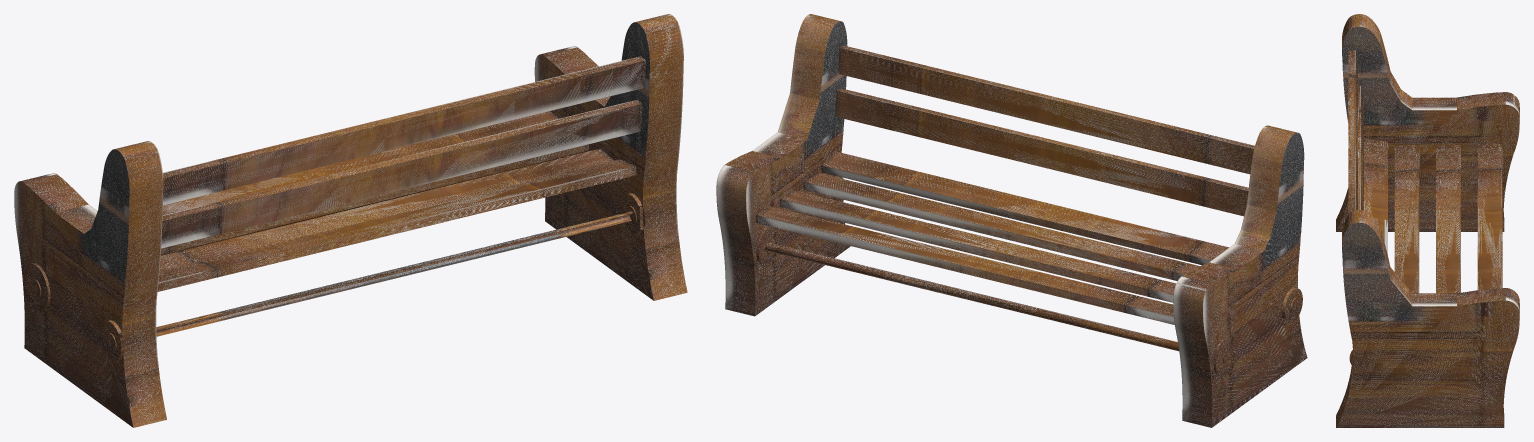
The picture shows the model from 3 angles, left to right: view 1: azimuth 30°, elevation 25°; view 2: azimuth 150°, elevation 25°; view 3: azimuth 270°, elevation 25°; orthographic projection. The views are drawn at different scales.
Visible parts, largest first — view 1: mesh1_mesh1-geometry, mesh10_mesh10-geometry, mesh4_mesh4-geometry, mesh5_mesh5-geometry, mesh6_mesh6-geometry, mesh9_mesh9-geometry, mesh8_mesh8-geometry, mesh7_mesh7-geometry; view 2: mesh1_mesh1-geometry, mesh10_mesh10-geometry, mesh4_mesh4-geometry, mesh5_mesh5-geometry, mesh6_mesh6-geometry, mesh8_mesh8-geometry, mesh7_mesh7-geometry, mesh9_mesh9-geometry; view 3: mesh10_mesh10-geometry, mesh1_mesh1-geometry, mesh8_mesh8-geometry, mesh7_mesh7-geometry, mesh9_mesh9-geometry, mesh6_mesh6-geometry, mesh4_mesh4-geometry, mesh5_mesh5-geometry.
Part boxes in pixels (bbox=[...]): mesh1_mesh1-geometry: bbox=[14, 141, 166, 427]; mesh10_mesh10-geometry: bbox=[156, 14, 687, 336]; mesh4_mesh4-geometry: bbox=[163, 56, 645, 205]; mesh5_mesh5-geometry: bbox=[161, 99, 642, 248]; mesh6_mesh6-geometry: bbox=[157, 159, 636, 291]; mesh9_mesh9-geometry: bbox=[159, 148, 614, 271]; mesh8_mesh8-geometry: bbox=[162, 111, 558, 215]; mesh7_mesh7-geometry: bbox=[160, 144, 588, 254]; mesh1_mesh1-geometry: bbox=[1173, 125, 1307, 427]; mesh10_mesh10-geometry: bbox=[716, 14, 1179, 351]; mesh4_mesh4-geometry: bbox=[838, 45, 1254, 174]; mesh5_mesh5-geometry: bbox=[835, 88, 1248, 216]; mesh6_mesh6-geometry: bbox=[821, 151, 1228, 265]; mesh8_mesh8-geometry: bbox=[756, 206, 1174, 324]; mesh7_mesh7-geometry: bbox=[779, 190, 1176, 302]; mesh9_mesh9-geometry: bbox=[803, 173, 1199, 280]; mesh10_mesh10-geometry: bbox=[1336, 210, 1519, 427]; mesh1_mesh1-geometry: bbox=[1336, 14, 1519, 231]; mesh8_mesh8-geometry: bbox=[1477, 143, 1502, 290]; mesh7_mesh7-geometry: bbox=[1436, 145, 1460, 293]; mesh9_mesh9-geometry: bbox=[1394, 145, 1419, 293]; mesh6_mesh6-geometry: bbox=[1363, 138, 1387, 255]; mesh4_mesh4-geometry: bbox=[1348, 50, 1357, 213]; mesh5_mesh5-geometry: bbox=[1358, 86, 1363, 210].
Bounding box in the file's own units: 0.8627 × 0.3927 × 0.3185.
